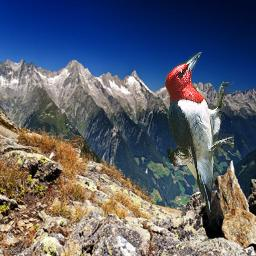Swallow: (164, 145, 194, 172)
Woodpecker: (164, 52, 234, 219)
